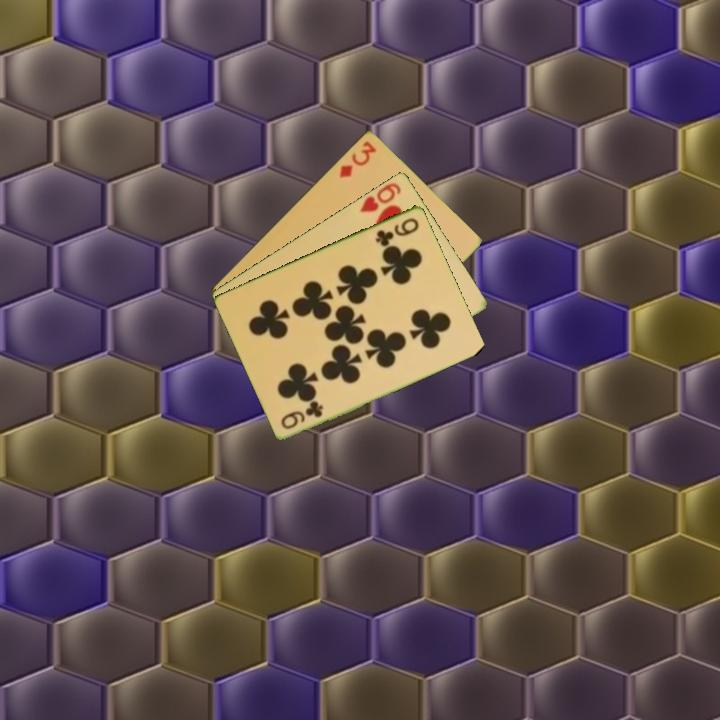3d: (336, 137, 379, 180)
6h: (356, 179, 404, 215)
9c: (372, 214, 422, 248), (277, 398, 326, 432)
